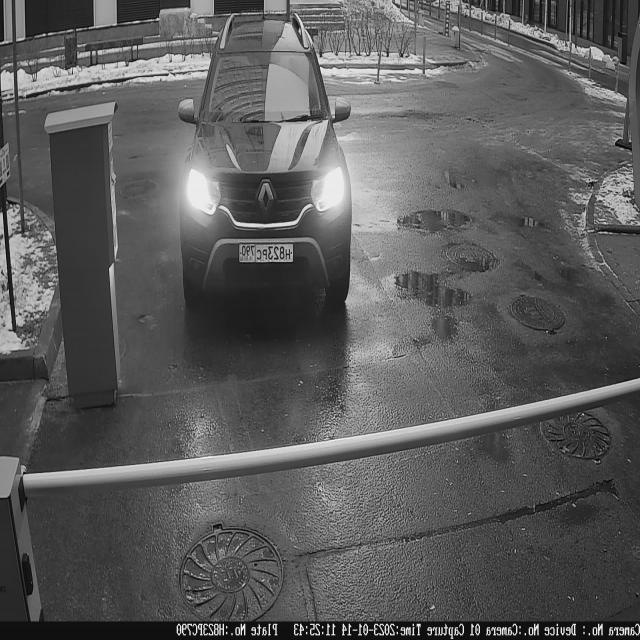car-plate-numbers: (237, 238, 298, 272)
